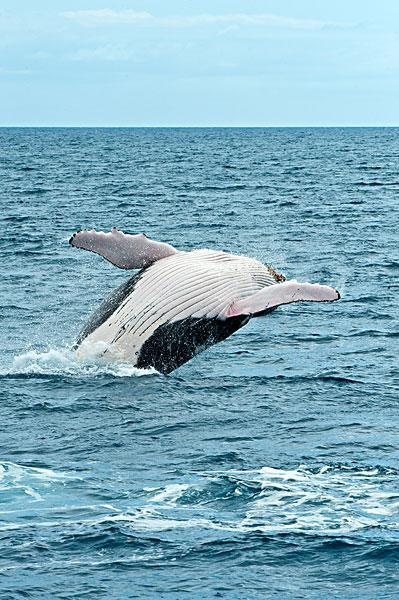fish: (60, 218, 342, 386)
